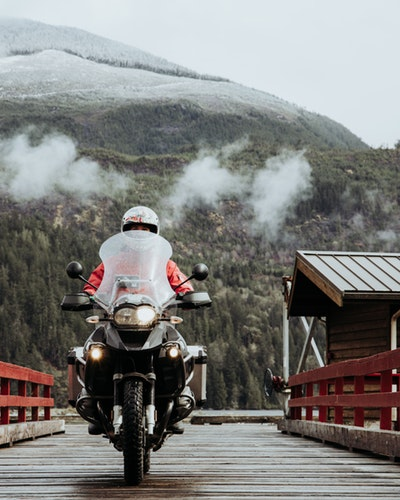helmet: (116, 201, 158, 252)
